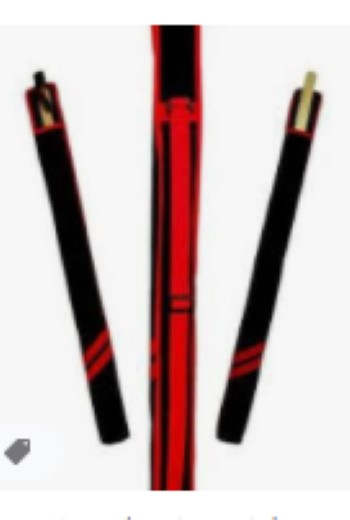baston_v: (25, 66, 56, 105), (301, 67, 320, 84)
